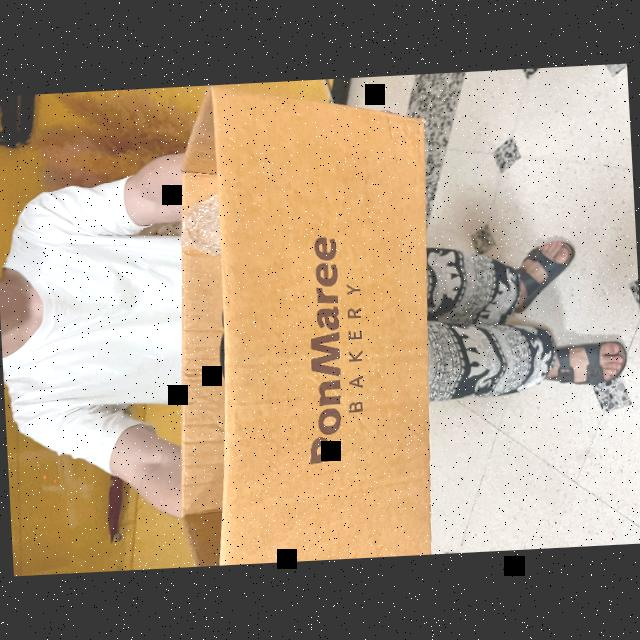cardboard_box: (156, 75, 450, 568)
